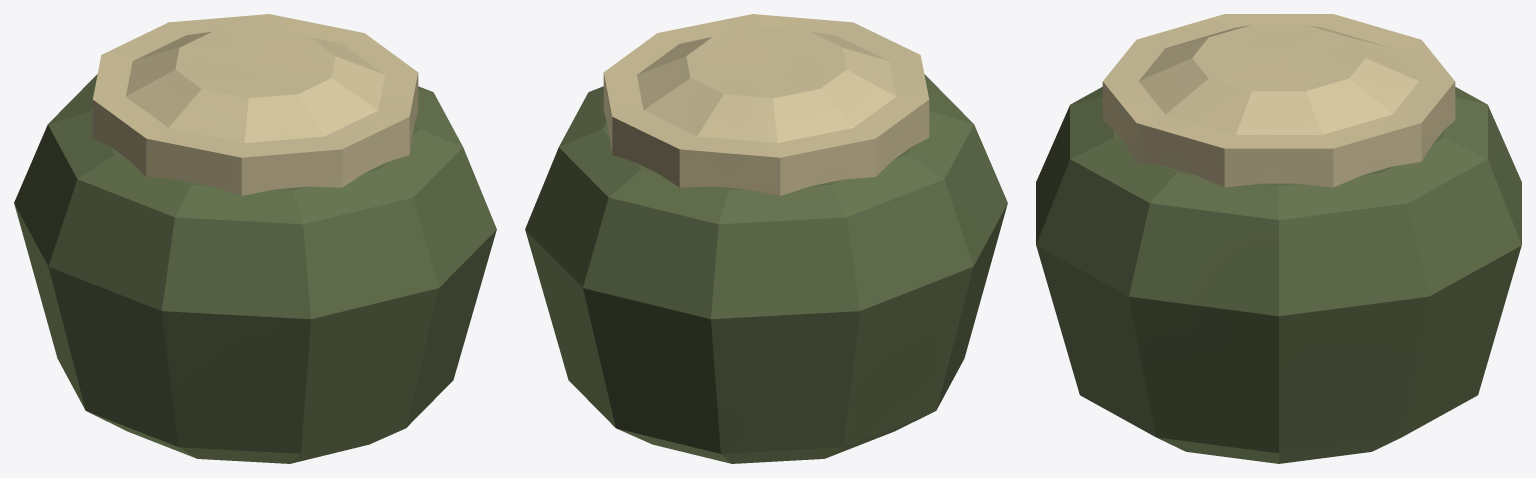
Rendered from WarrensC_WVC057_TallowPot_Mars_SM.fbx.
3 renders of one model, left to right at view 1: azimuth 30°, elevation 25°; view 2: azimuth 150°, elevation 25°; view 3: azimuth 270°, elevation 25°, orthographic.
Parts seen in each view (by area): view 1: WarrensC_WVC057_TallowPot_Mars_SM.001; view 2: WarrensC_WVC057_TallowPot_Mars_SM.001; view 3: WarrensC_WVC057_TallowPot_Mars_SM.001.
Boxes of the visible parts, x1,y1,x2,y2 form: WarrensC_WVC057_TallowPot_Mars_SM.001: (14,14,496,463); WarrensC_WVC057_TallowPot_Mars_SM.001: (525,14,1007,463); WarrensC_WVC057_TallowPot_Mars_SM.001: (1036,14,1521,463).
Size of the model in its own units: 45 by 45 by 35.
